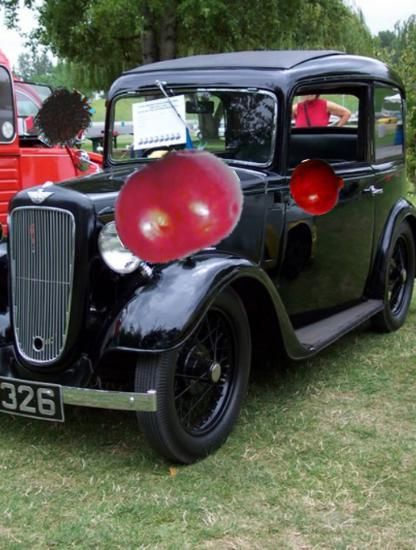Cherry: (110, 139, 246, 275)
Pomegranate: (289, 158, 346, 215)
Rambutan: (33, 88, 96, 151)
